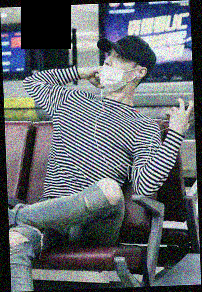mask_weared_incorrect: (99, 50, 136, 89)
